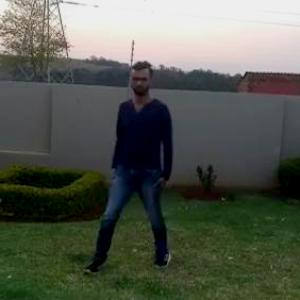follow: (118, 60, 188, 276)
